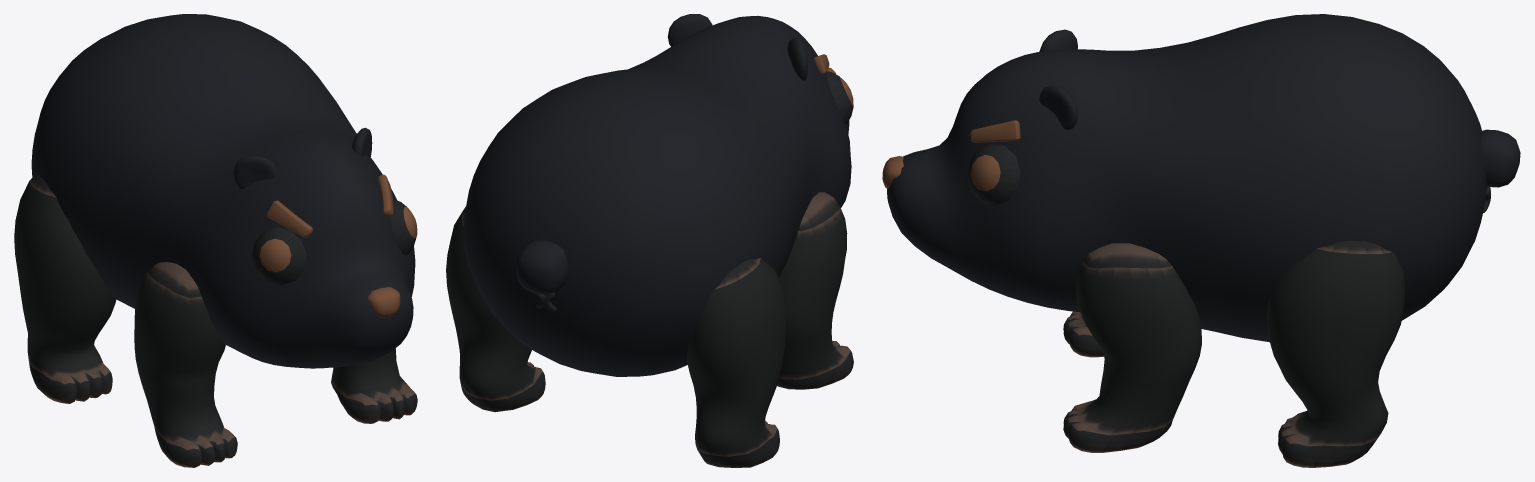
The model's file is Gau.fbx.
The picture shows the model from 3 angles, left to right: view 1: azimuth 30°, elevation 25°; view 2: azimuth 150°, elevation 25°; view 3: azimuth 270°, elevation 25°; orthographic projection. The views are drawn at different scales.
Parts seen in each view (by area): view 1: Gaufull; view 2: Gaufull; view 3: Gaufull.
Part boxes in pixels (<box>): Gaufull: <box>14,14,417,467</box>; Gaufull: <box>446,14,853,467</box>; Gaufull: <box>882,14,1520,467</box>.
Bounding box in the file's own units: 202 × 205 × 327.
